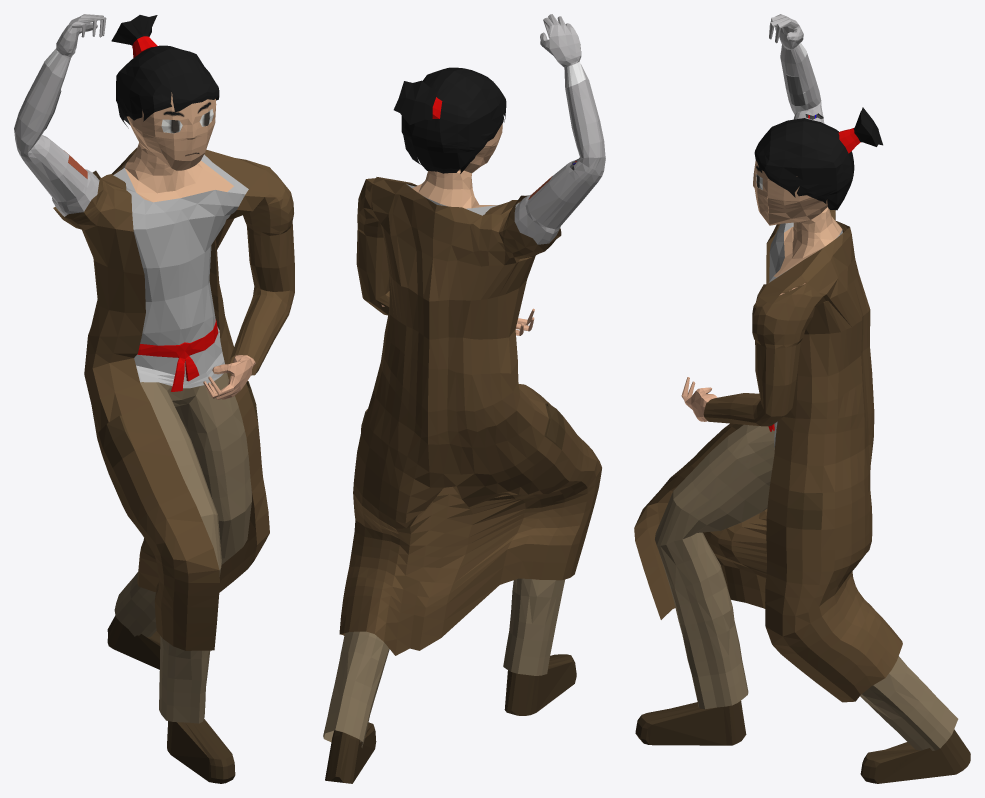
The model's file is Special_Attack_000010.obj.
3 renders of one model, left to right at view 1: azimuth 30°, elevation 25°; view 2: azimuth 150°, elevation 25°; view 3: azimuth 270°, elevation 25°, orthographic. The views are drawn at different scales.
Parts seen in each view (by area): view 1: Hair_Cube.004; view 2: Hair_Cube.004; view 3: Hair_Cube.004.
Part boxes in pixels (x1=…): Hair_Cube.004: x1=14, y1=14, x2=294, y2=783; Hair_Cube.004: x1=323, y1=14, x2=605, y2=783; Hair_Cube.004: x1=634, y1=14, x2=970, y2=783.
Bounding box in the file's own units: 1.46 × 3.91 × 1.72.
